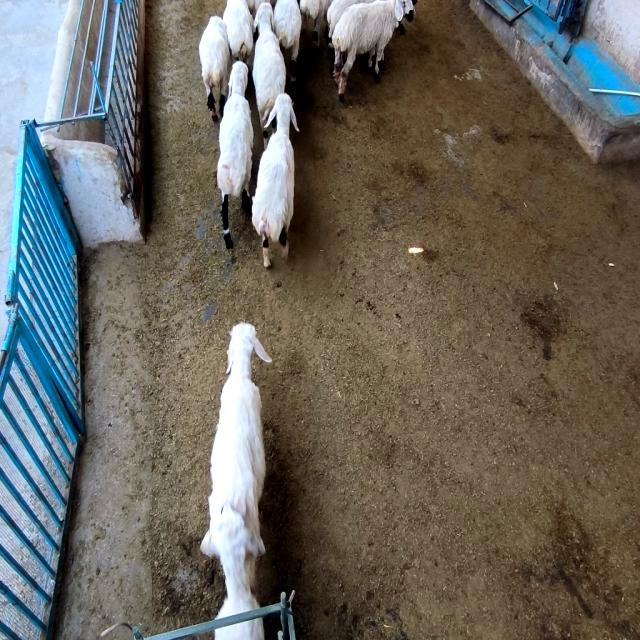sheep: (209, 323, 270, 551), (252, 93, 299, 268), (331, 0, 411, 101), (201, 503, 265, 618), (218, 62, 254, 248), (252, 2, 286, 148), (199, 17, 230, 121), (326, 0, 374, 56), (274, 0, 301, 92), (222, 0, 254, 62), (299, 0, 330, 57), (215, 618, 264, 640)
